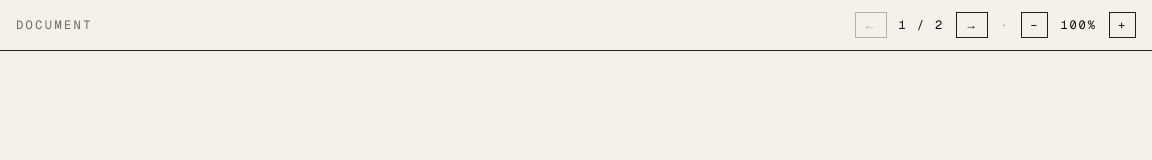
Test: DocumentViewer — page navigation › disables previous on page 1 and next on the last page
Check: the text with test id "page-indicator" reads "1 / 2", box left=899, top=17, right=944, bottom=33
Check: the button named "previous page" is disabled, box left=855, top=12, right=887, bottom=38
Click the button named "next page" at coordinates (972, 25), box left=956, top=12, right=988, bottom=38
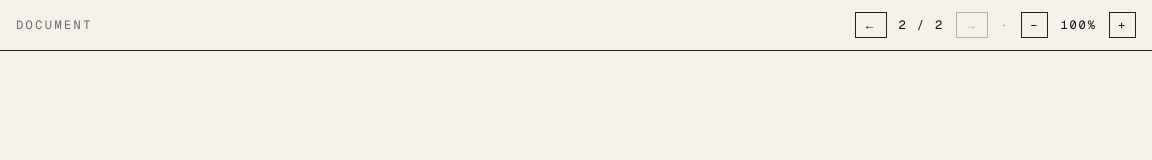
Check: the text with test id "page-indicator" reads "2 / 2", box left=899, top=17, right=944, bottom=33
Check: the button named "next page" is disabled, box left=956, top=12, right=988, bottom=38
